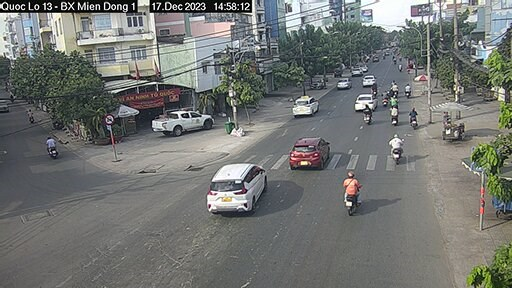car: (199, 150, 267, 207), (150, 107, 214, 136), (285, 133, 325, 176), (356, 90, 379, 113), (289, 97, 309, 120), (365, 71, 378, 86), (339, 76, 350, 93)
motorbike: (342, 175, 361, 208), (386, 134, 405, 162), (42, 140, 58, 158)
